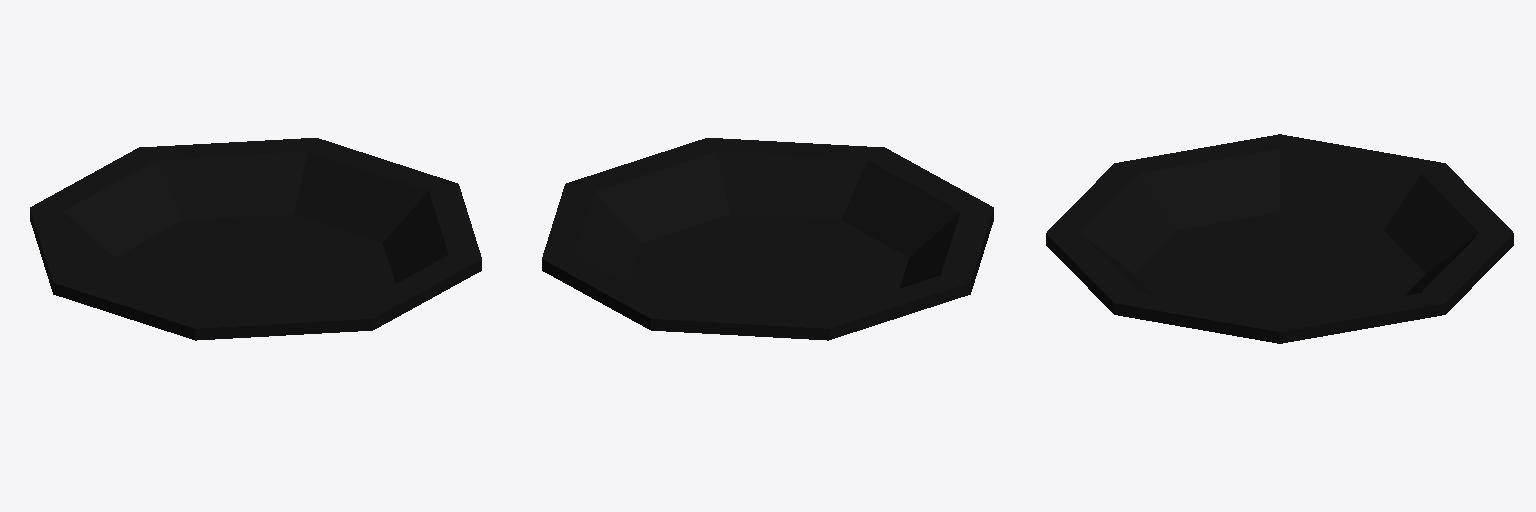
Rendered from Plate1.obj.
The picture shows the model from 3 angles: view 1: azimuth 30°, elevation 25°; view 2: azimuth 150°, elevation 25°; view 3: azimuth 270°, elevation 25°; orthographic projection.
Parts seen in each view (by area): view 1: Plate1_Cylinder.009; view 2: Plate1_Cylinder.009; view 3: Plate1_Cylinder.009.
Boxes of the visible parts, x1=… form: Plate1_Cylinder.009: x1=30, y1=138, x2=481, y2=340; Plate1_Cylinder.009: x1=542, y1=138, x2=993, y2=340; Plate1_Cylinder.009: x1=1046, y1=134, x2=1513, y2=343.
Bounding box in the file's own units: 0.6432 × 0.0691 × 0.6432.